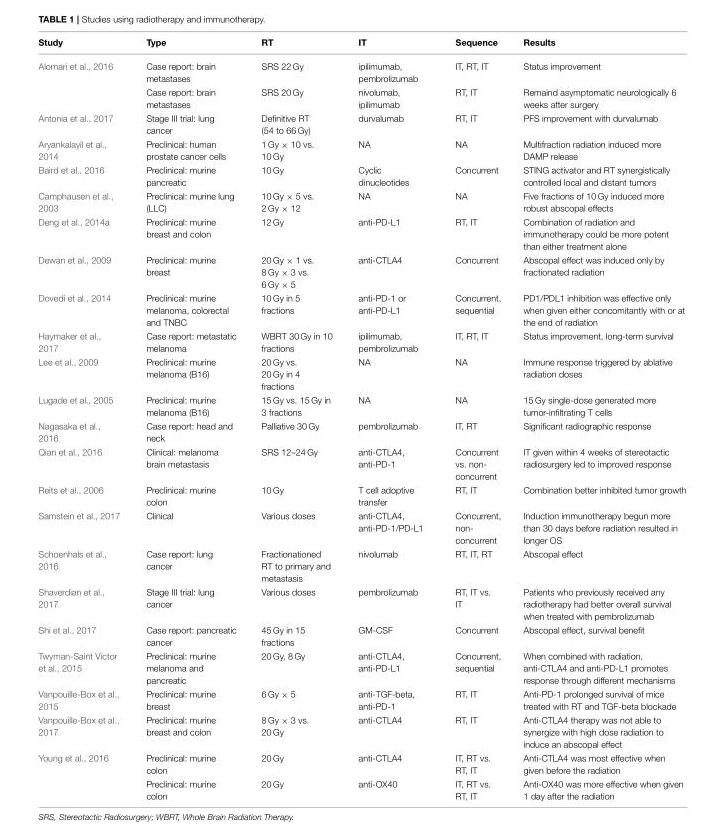table: (37, 37, 685, 800)
table column: (511, 37, 685, 800), (132, 37, 248, 800), (248, 37, 344, 800), (37, 37, 132, 800), (344, 37, 438, 800), (438, 37, 511, 800)
table column header: (37, 37, 685, 54)
table row: (37, 252, 685, 291), (37, 546, 685, 585), (37, 712, 685, 751), (37, 214, 685, 252), (37, 291, 685, 329), (37, 355, 685, 393), (37, 444, 685, 482), (37, 508, 685, 546), (37, 585, 685, 623), (37, 649, 685, 687), (37, 54, 685, 85), (37, 85, 685, 111), (37, 111, 685, 137), (37, 137, 685, 163), (37, 163, 685, 189), (37, 329, 685, 355), (37, 393, 685, 419), (37, 482, 685, 508), (37, 623, 685, 649), (37, 189, 685, 214), (37, 419, 685, 444), (37, 687, 685, 712), (37, 751, 685, 776), (37, 776, 685, 800), (37, 37, 685, 54)
table spanning cell: (37, 54, 132, 111), (37, 751, 132, 800)
